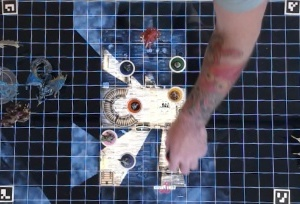blue: (121, 57, 137, 75)
green: (168, 54, 186, 72)
orange: (126, 97, 144, 113)
pink: (101, 128, 120, 146)
violet: (118, 152, 137, 170)
yellow: (167, 84, 183, 102)
